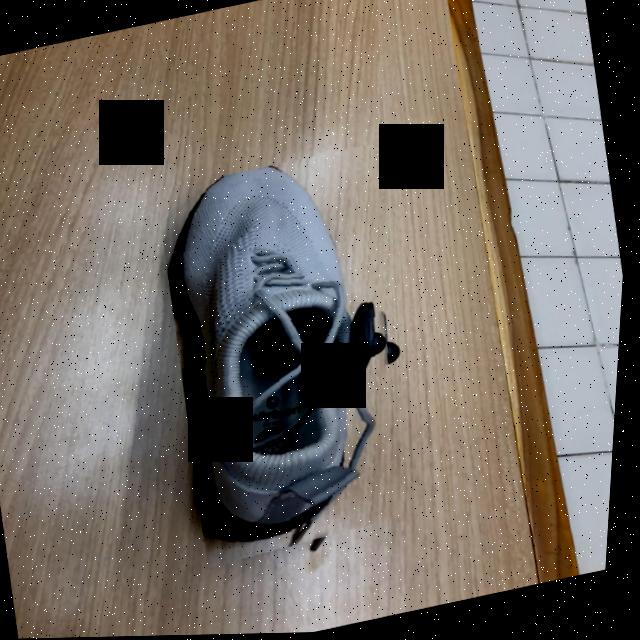shoe: (172, 169, 394, 546)
